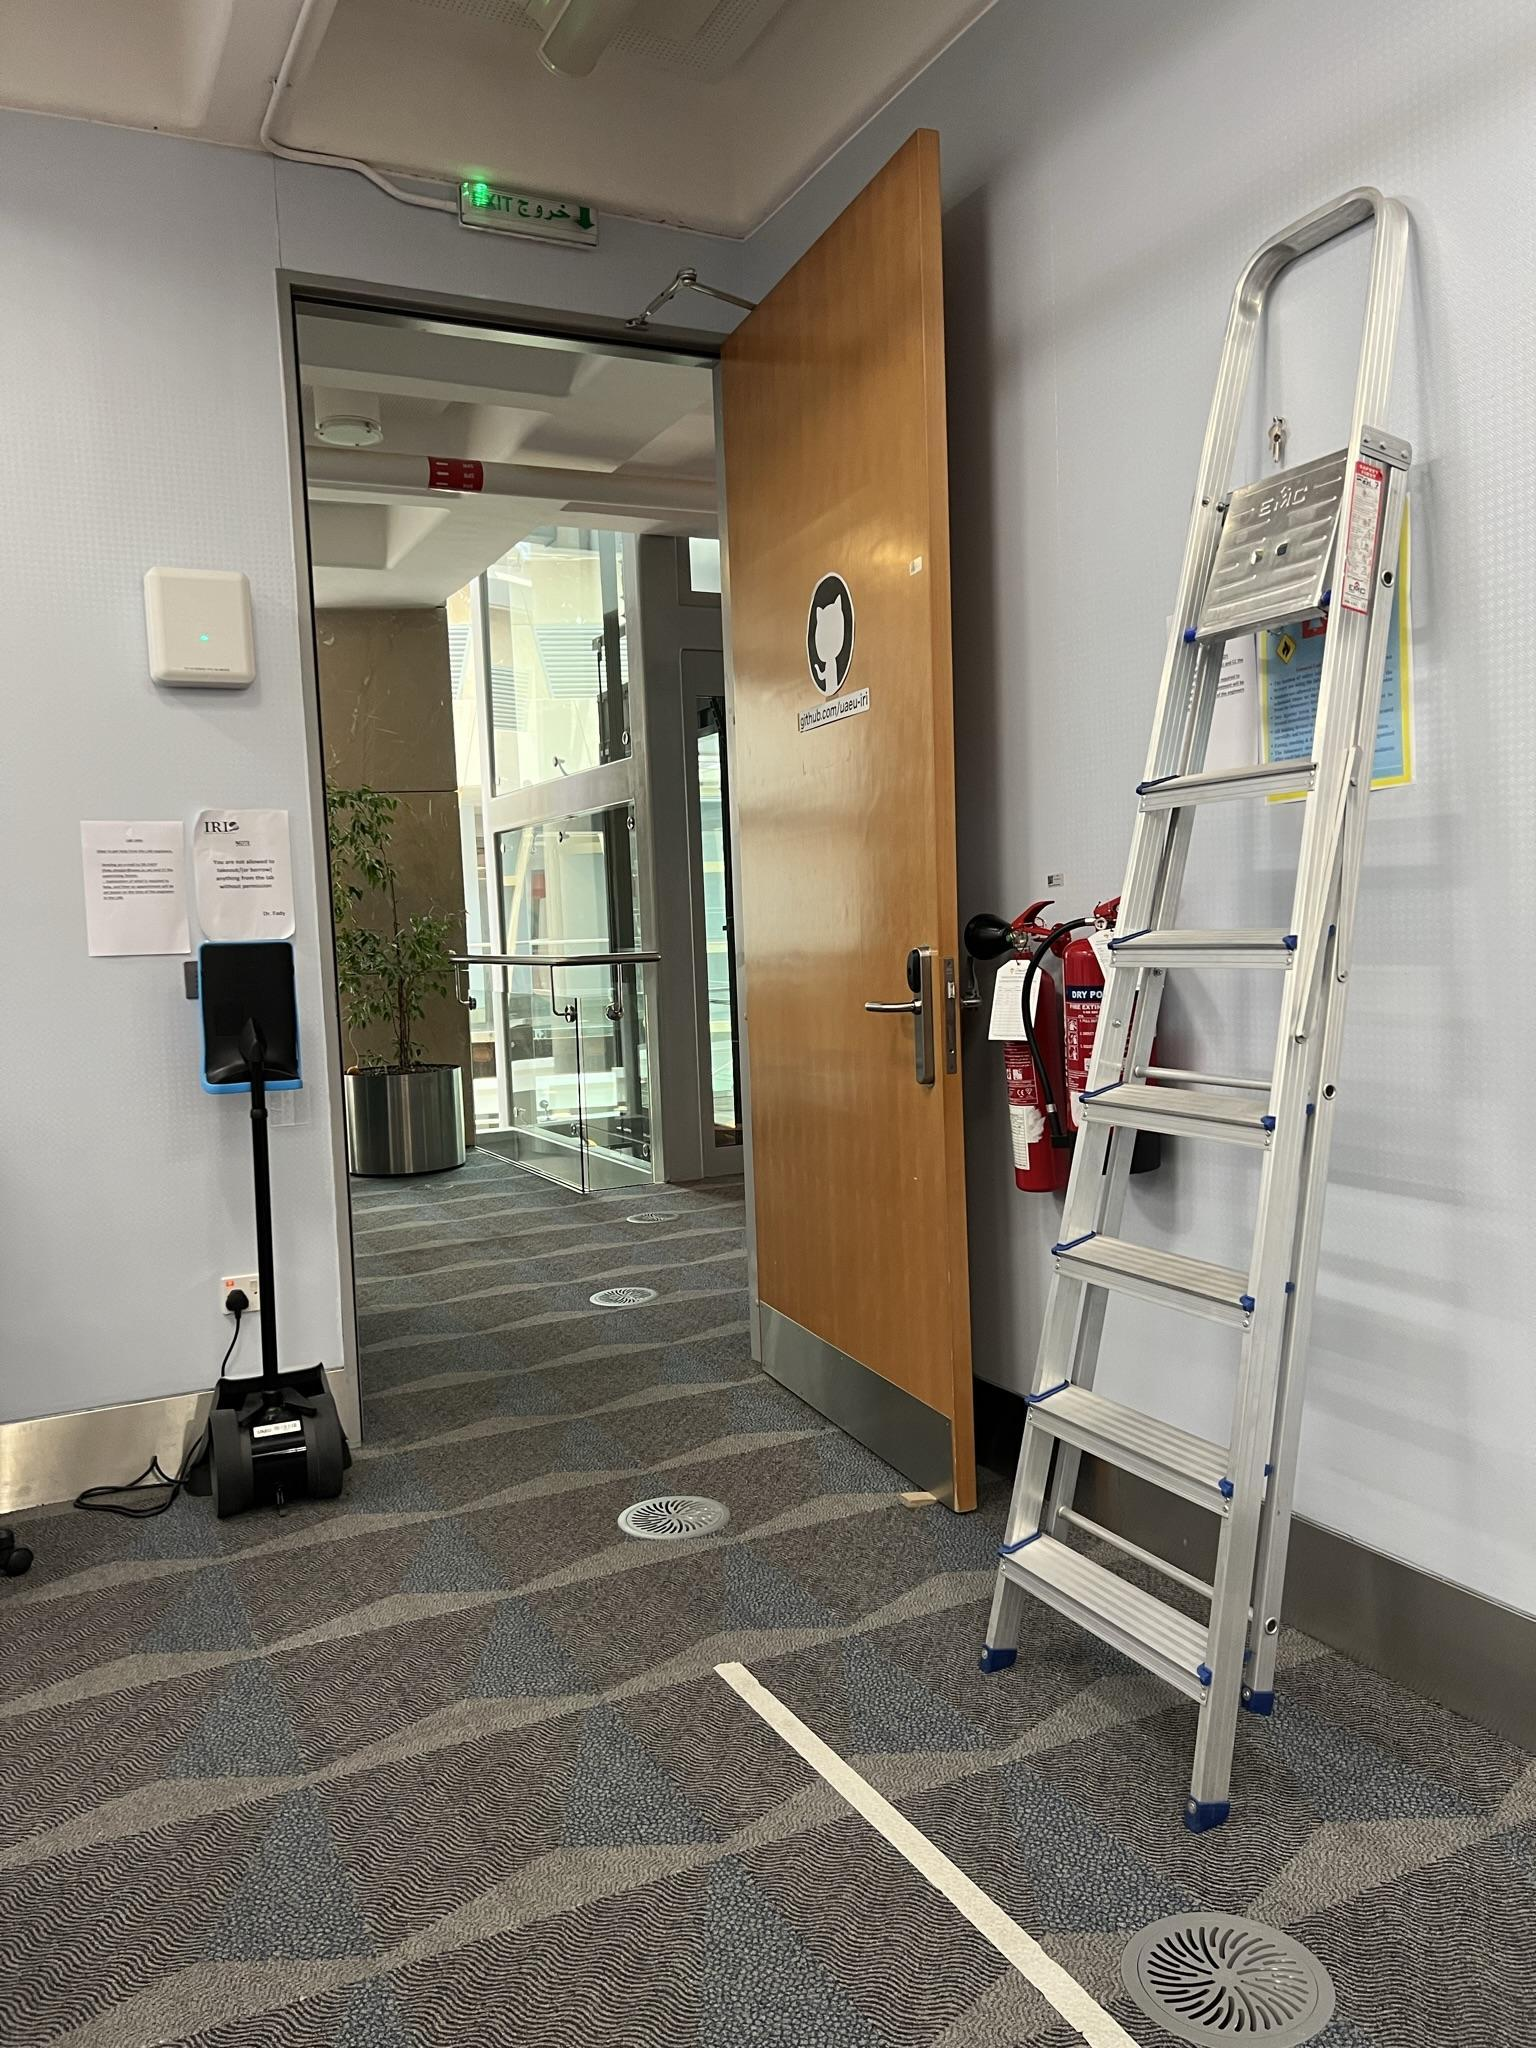door: (697, 221, 997, 1506)
handle: (871, 942, 957, 1098)
